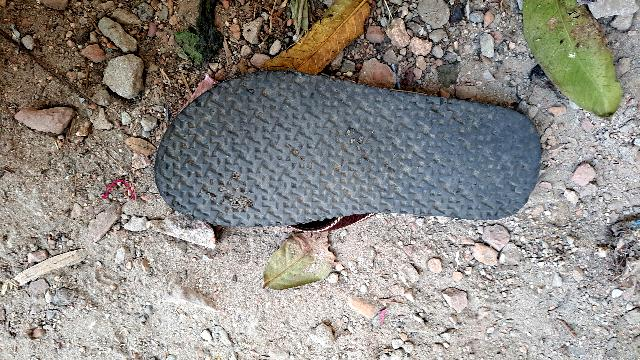sandal: (152, 69, 540, 283)
